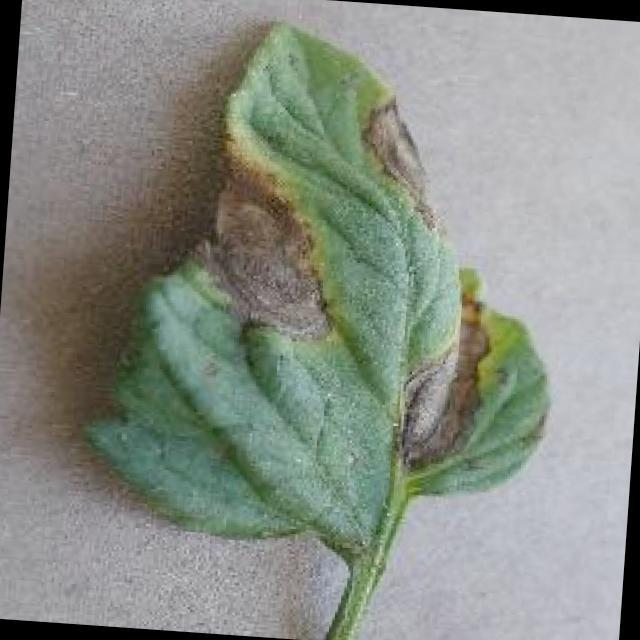Tomato Early blight leaf: (80, 9, 574, 562)
